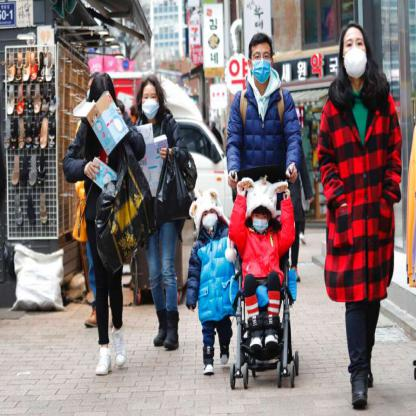Wearing_Mask: (343, 35, 367, 80), (250, 48, 271, 83), (140, 90, 158, 118), (201, 206, 217, 230), (252, 212, 268, 233)
